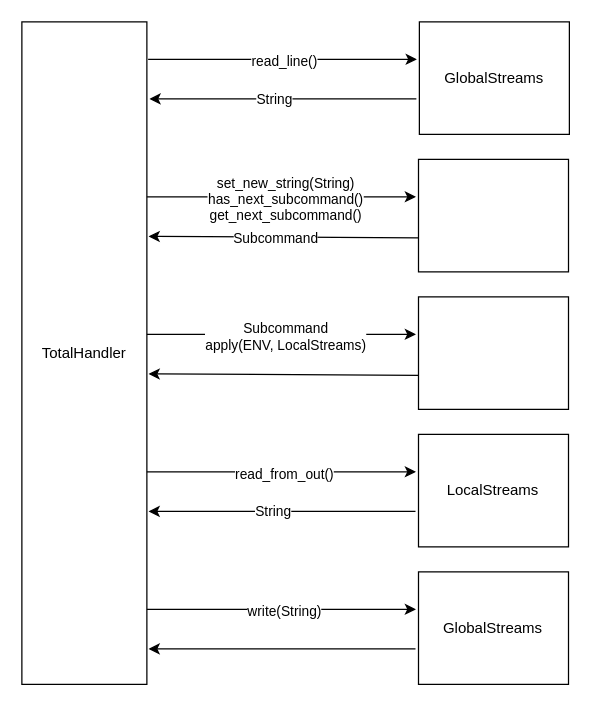
Some shapes in this 591 by 706 pixel diagram are drawn without their labels. Here are the shapes that lost their labels. From the top down, the centre of each, then its label:
At (492,215): "Parser".
At (492,352): "Program".
